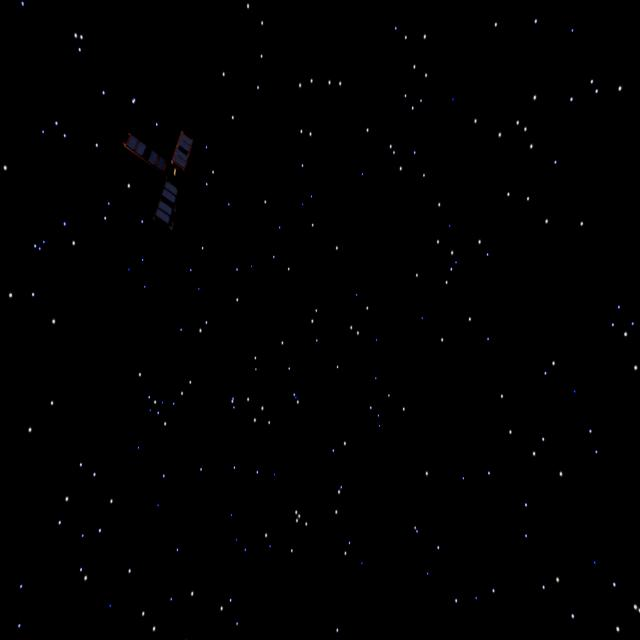satellite: (125, 122, 229, 239)
